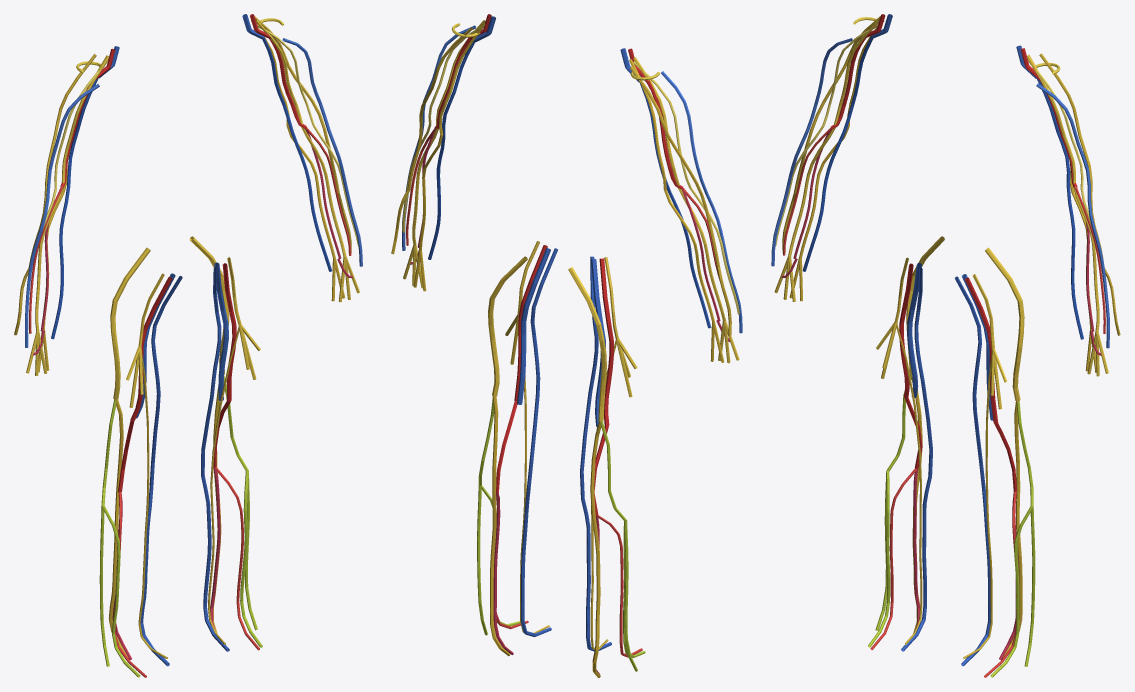
File: anatomyverse-limbsupply.glb
The picture shows the model from 3 angles, left to right: view 1: azimuth 30°, elevation 25°; view 2: azimuth 150°, elevation 25°; view 3: azimuth 330°, elevation 25°; orthographic projection.
Visible parts, largest first — view 1: great_saphenous_vein_L, common_fibular_nerve_R, great_saphenous_vein_R, common_fibular_nerve_L, median_nerve_R, median_nerve_L, cephalic_vein_R, basilic_vein_R, cephalic_vein_L, tibial_nerve_R, basilic_vein_L, sciatic_nerve_R (+13 smaller); view 2: great_saphenous_vein_L, great_saphenous_vein_R, median_nerve_R, ulnar_nerve_R, common_fibular_nerve_R, tibial_nerve_R, tibial_nerve_L, ulnar_nerve_L, radial_nerve_R, common_fibular_nerve_L, median_nerve_L, cephalic_vein_R (+17 smaller); view 3: great_saphenous_vein_R, common_fibular_nerve_L, great_saphenous_vein_L, median_nerve_L, median_nerve_R, common_fibular_nerve_R, cephalic_vein_L, basilic_vein_L, cephalic_vein_R, basilic_vein_R, sciatic_nerve_L, tibial_nerve_L (+14 smaller).
Part boxes in pixels (box(x1,y1,x2,y2)): great_saphenous_vein_L: box(201, 267, 229, 651); common_fibular_nerve_R: box(99, 399, 140, 677); great_saphenous_vein_R: box(140, 276, 182, 666); common_fibular_nerve_L: box(223, 375, 262, 647); median_nerve_R: box(26, 56, 108, 375); median_nerve_L: box(256, 19, 359, 302); cephalic_vein_R: box(25, 84, 99, 347); basilic_vein_R: box(51, 78, 98, 339); cephalic_vein_L: box(282, 38, 362, 266); tibial_nerve_R: box(108, 400, 128, 657); basilic_vein_L: box(262, 37, 332, 271); sciatic_nerve_R: box(110, 247, 150, 399); great_saphenous_vein_L: box(521, 248, 557, 636); great_saphenous_vein_R: box(580, 256, 611, 651); median_nerve_R: box(633, 57, 739, 363); ulnar_nerve_R: box(629, 59, 724, 362); common_fibular_nerve_R: box(600, 421, 645, 671); tibial_nerve_R: box(590, 421, 601, 677); tibial_nerve_L: box(490, 396, 510, 656); ulnar_nerve_L: box(413, 23, 485, 291); radial_nerve_R: box(630, 66, 731, 336); common_fibular_nerve_L: box(477, 398, 520, 635); median_nerve_L: box(403, 20, 485, 288); cephalic_vein_R: box(661, 71, 742, 333); great_saphenous_vein_R: box(901, 267, 932, 651); common_fibular_nerve_L: box(990, 401, 1035, 677); great_saphenous_vein_L: box(954, 276, 990, 666); median_nerve_L: box(1026, 56, 1108, 376); median_nerve_R: box(774, 19, 879, 301); common_fibular_nerve_R: box(868, 374, 911, 647); cephalic_vein_L: box(1036, 83, 1109, 348); basilic_vein_L: box(1036, 78, 1083, 339); cephalic_vein_R: box(771, 38, 852, 266); basilic_vein_R: box(802, 36, 872, 271); sciatic_nerve_L: box(985, 247, 1024, 401); tibial_nerve_L: box(1003, 401, 1022, 657).
Size of the model in its own units: 0.7353 by 1.3 by 0.156.
